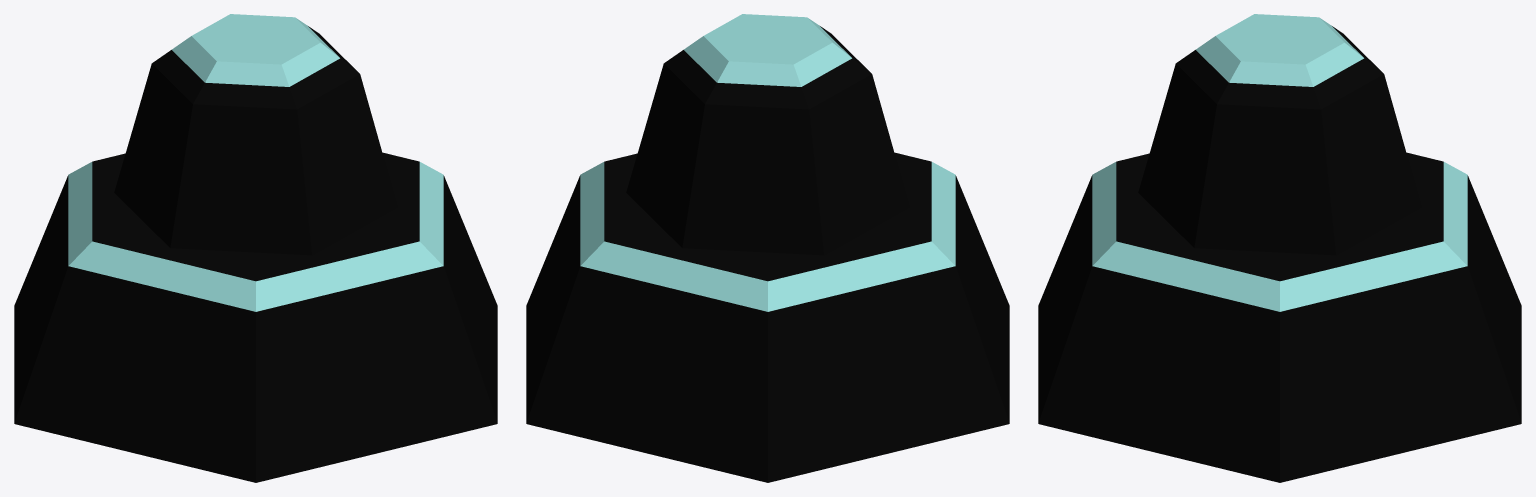
Rendered from Big_Rock.fbx.
3 renders of one model, left to right at view 1: azimuth 30°, elevation 25°; view 2: azimuth 150°, elevation 25°; view 3: azimuth 270°, elevation 25°, orthographic.
Visible parts, largest first — view 1: Snow002, Snow003; view 2: Snow002, Snow003; view 3: Snow002, Snow003.
Boxes of the visible parts, x1,y1,x2,y2 form: Snow002: (14,26,497,482); Snow003: (68,14,443,311); Snow002: (526,26,1009,482); Snow003: (580,14,955,311); Snow002: (1038,26,1521,482); Snow003: (1092,14,1467,311).
Bounding box in the file's own units: 3.55 × 2.29 × 3.08.
